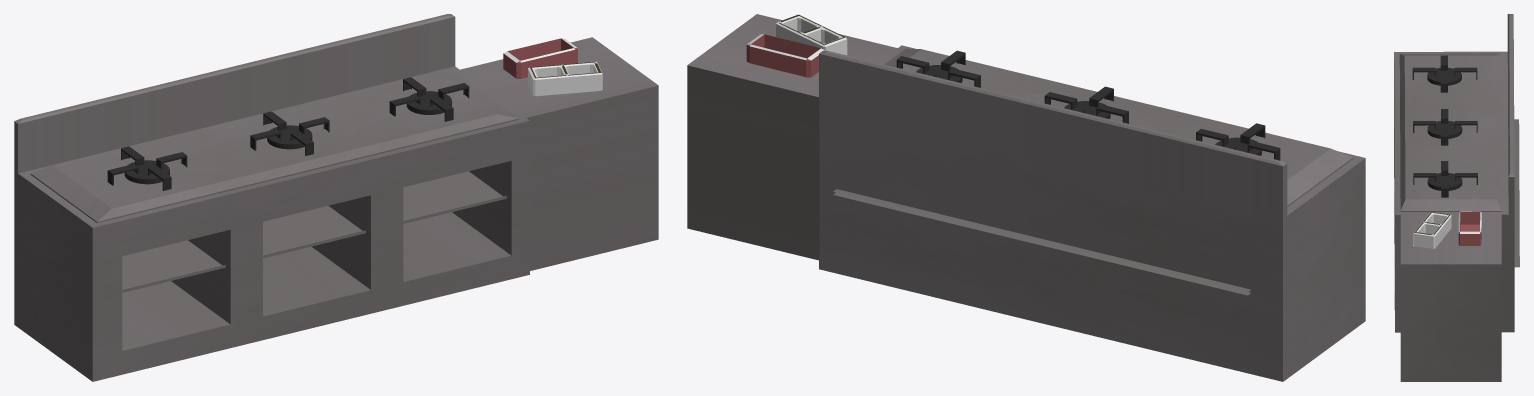
File: kompor.glb
3 views of the same model, side by side, from view 1: azimuth 30°, elevation 25°; view 2: azimuth 150°, elevation 25°; view 3: azimuth 270°, elevation 25° (orthographic). The views are drawn at different scales.
Visible parts, largest first — view 1: Cube.001, Cube.036, Cube.037, Cylinder.003, Cylinder_001, Cylinder.002; view 2: Cube.001, Cube.037, Cube.036; view 3: Cube.001, Cube.036, Cube.037, Cylinder.003, Cylinder_001, Cylinder.002, Cube.004, Cube.005, Cube.003, Cube.008, Cube.011, Cube.006 (+4 smaller).
Boxes of the visible parts, <box> form: Cube.001: <box>14,14,658,381</box>; Cube.036: <box>528,61,602,96</box>; Cube.037: <box>503,38,577,78</box>; Cylinder.003: <box>406,91,451,114</box>; Cylinder_001: <box>124,160,169,184</box>; Cylinder.002: <box>267,125,312,149</box>; Cube.001: <box>687,14,1365,381</box>; Cube.037: <box>746,34,824,77</box>; Cube.036: <box>776,14,847,55</box>; Cube.001: <box>1394,14,1519,381</box>; Cube.036: <box>1413,212,1451,248</box>; Cube.037: <box>1458,211,1481,245</box>; Cylinder.003: <box>1427,173,1462,190</box>; Cylinder_001: <box>1427,67,1461,85</box>; Cylinder.002: <box>1427,121,1462,138</box>; Cube.004: <box>1412,67,1435,79</box>; Cube.005: <box>1454,67,1477,79</box>; Cube.003: <box>1440,73,1447,92</box>; Cube.008: <box>1441,127,1448,145</box>; Cube.011: <box>1441,179,1448,197</box>; Cube.006: <box>1454,121,1477,132</box>.
Size of the model in its own units: 2.75 by 0.9457 by 0.6874.
Materials: 5 (1 with a texture image).
